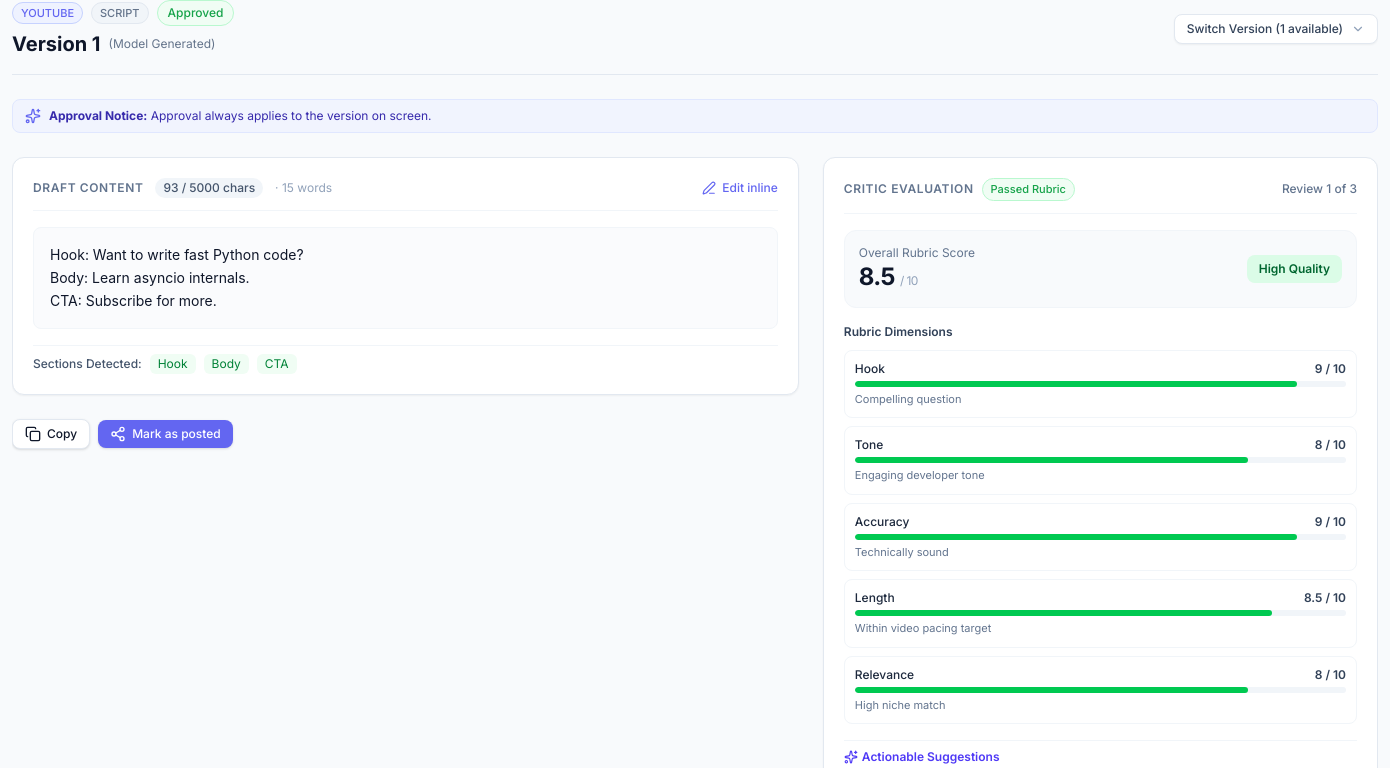
Test: DraftReview (UI-04, UI-05, TEST-02) › warns that editing an already approved draft invalidates approval and creates a new version
Check: the text "Approved" is shown, box [157,0,234,26]
Click the button "Edit inline" at (740, 188), box [702,180,778,196]
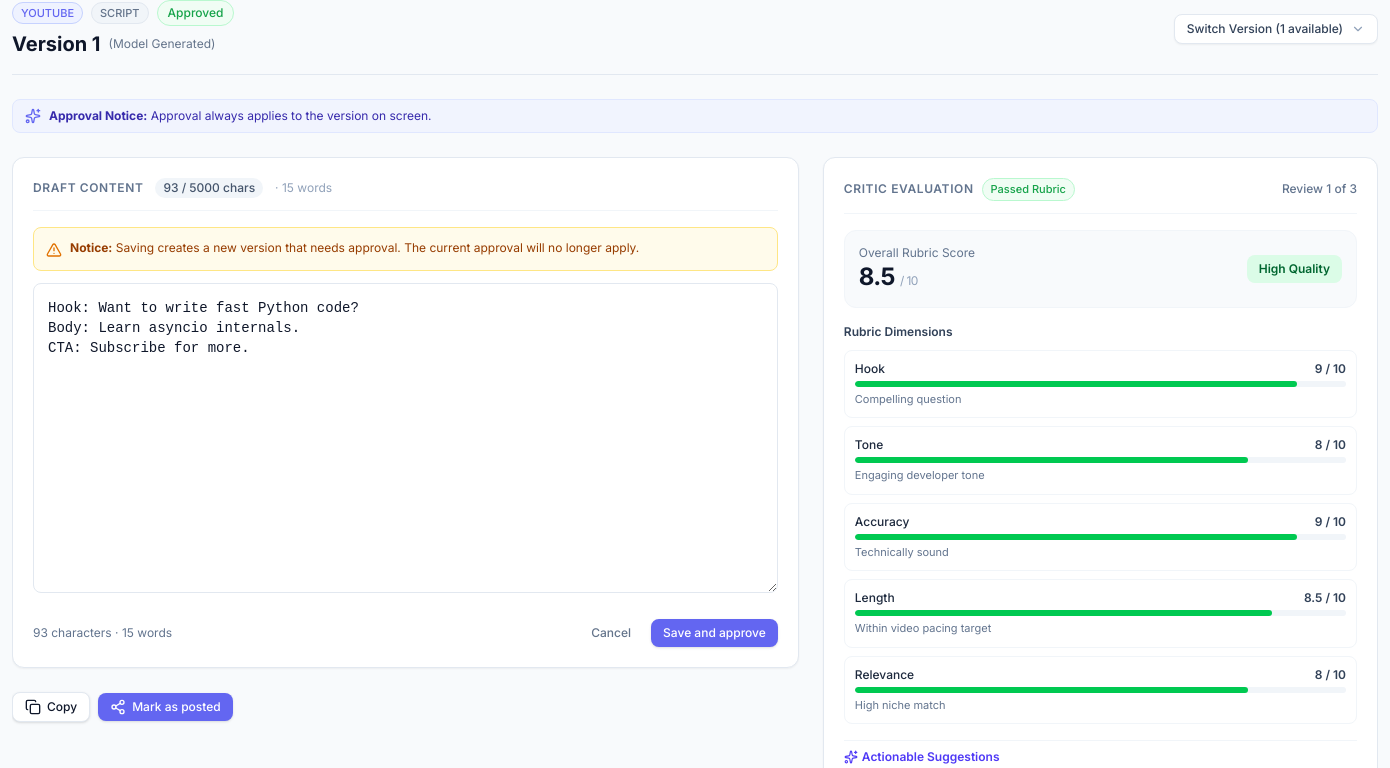
Check: the text "Saving creates a new version that needs approval. The current approval will no longer apply." is shown, box [112,240,639,255]
